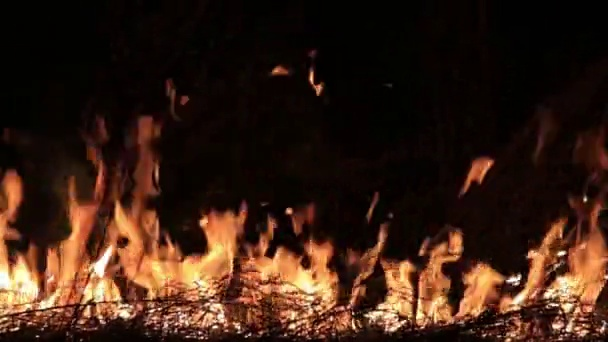fire: (33, 211, 241, 324), (350, 232, 501, 331), (510, 221, 608, 338), (238, 238, 338, 329), (133, 115, 158, 197), (1, 257, 36, 312), (4, 172, 22, 217), (467, 157, 493, 183)
